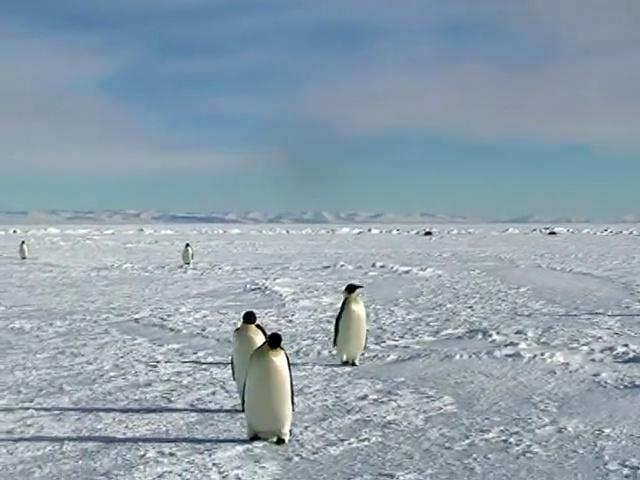animal: (333, 284, 366, 365)
